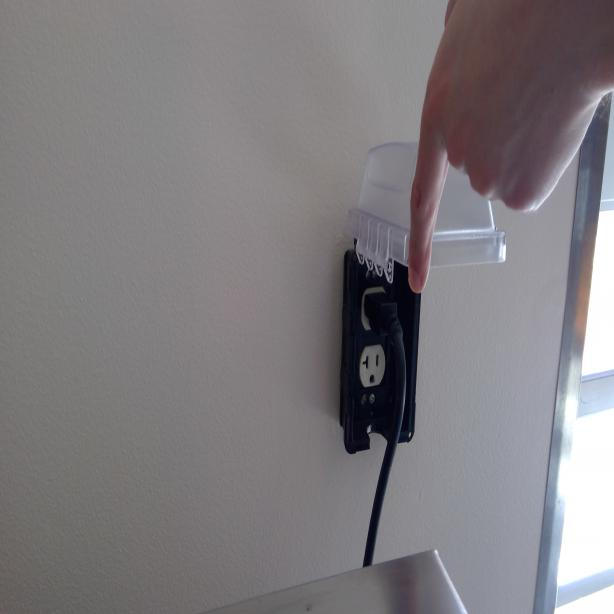typeb: (360, 348, 383, 392)
